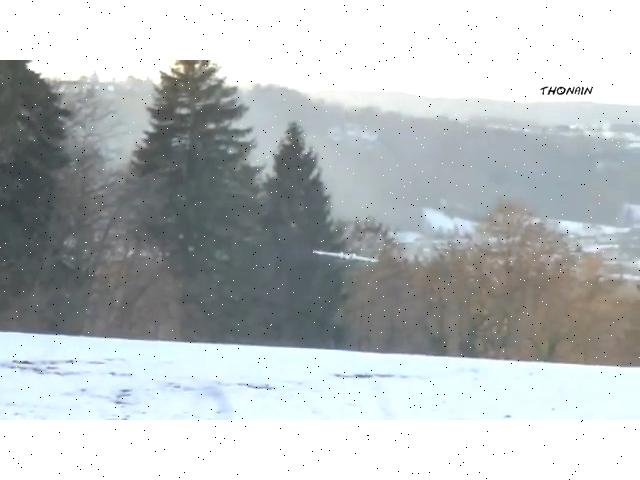Anti-Drone: (316, 249, 378, 263)
